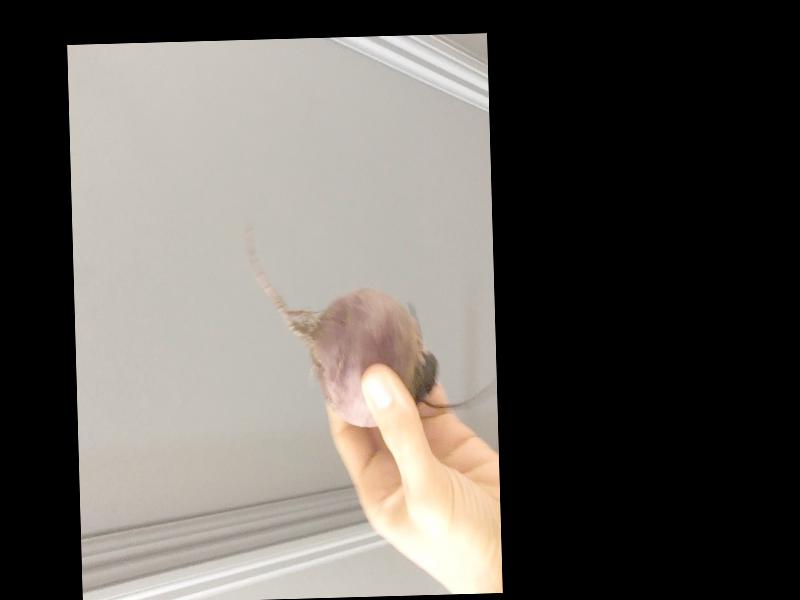Beet: (245, 213, 498, 429)
